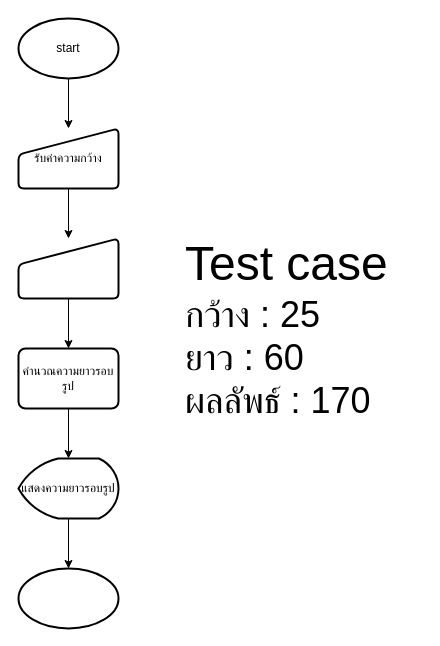
Some shapes in this 440 by 646 pixel diagram are drawn without their labels. Here are the shapes that lost their labels. From the top down, the box of each, then its label:
(17, 237, 119, 299): รับค่าความยาว
(17, 567, 119, 629): End
